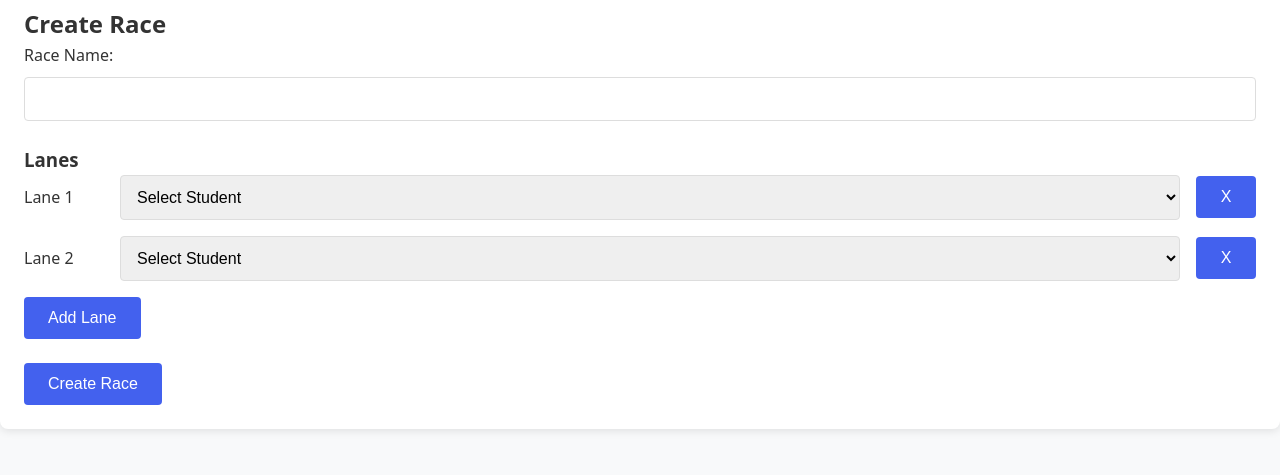
Test: RaceForm › validates race creation
Submit without name
Click the button "Create Race" at point(93, 384), box [24,363,162,405]
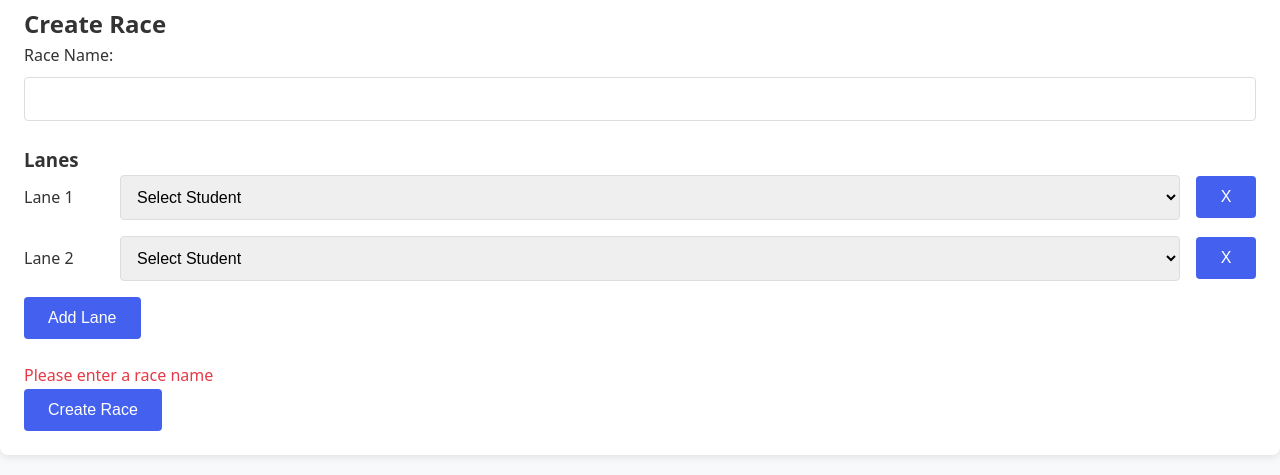
Expected: the text "Please enter a race name" is shown, [24,364,213,386]
Fill in race name
Type "Test Race" into the field labelled "Race Name:" at point(640, 99), box [24,77,1256,121]
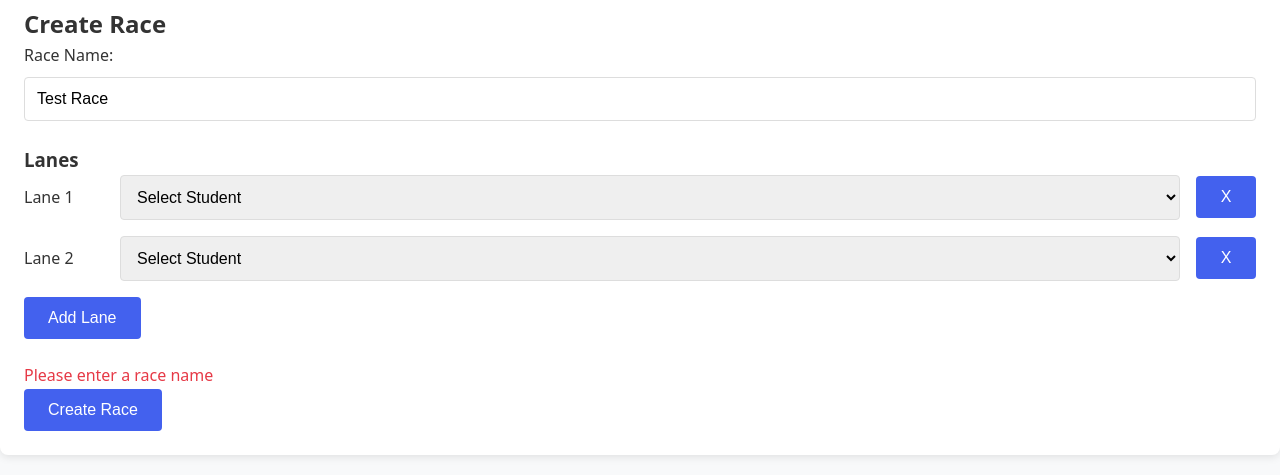
Don't select students
Click the button "Create Race" at point(93, 410), box [24,388,162,430]
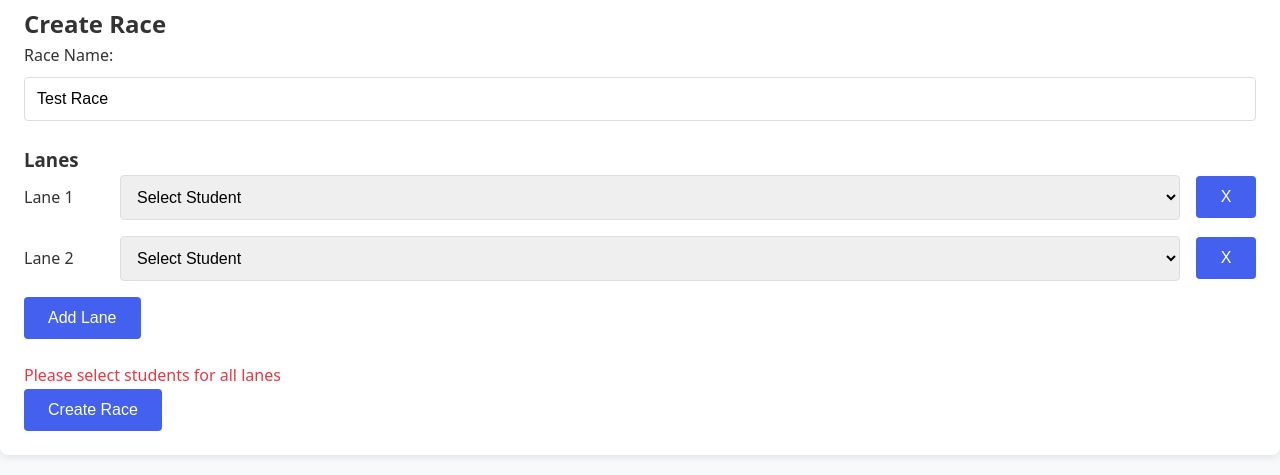
Expected: the text "Please select students for all lanes" is shown, [24,364,281,386]
